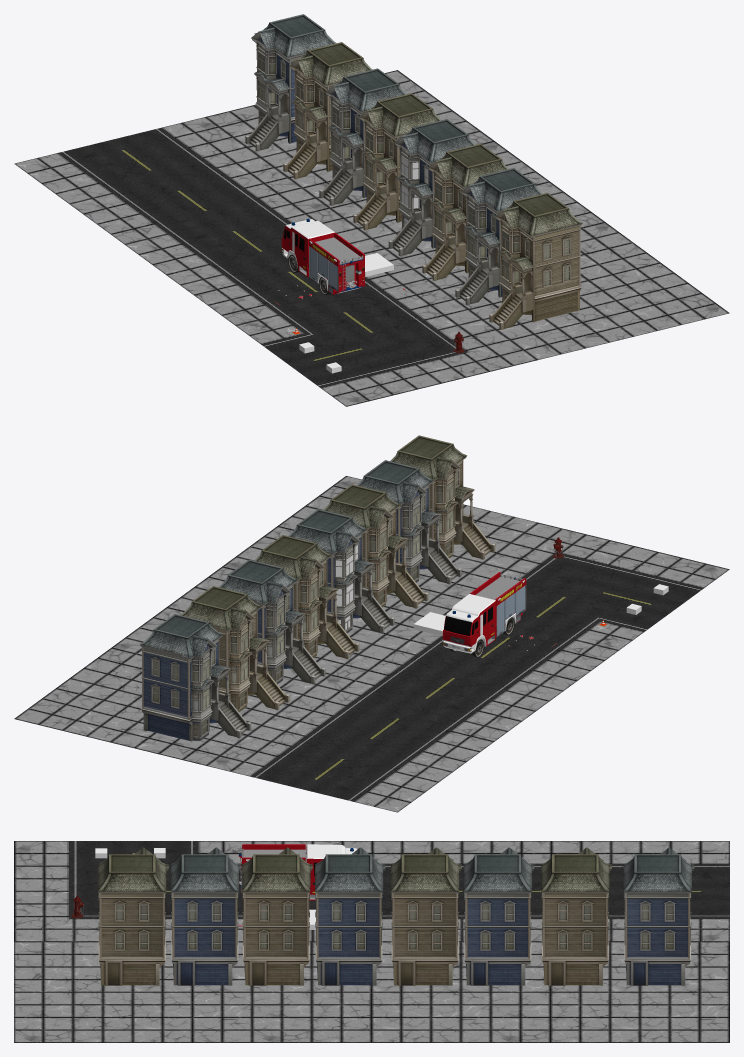
The model's file is city.glb.
The picture shows the model from 3 angles, top to bottom: view 1: azimuth 30°, elevation 25°; view 2: azimuth 150°, elevation 25°; view 3: azimuth 270°, elevation 25°; orthographic projection. The views are drawn at different scales.
Parts seen in each view (by area): view 1: Batch_U12_straight__1_, Batch_U5_curve, Batch_U21_straight, Batch_U16_plaza, Batch_U183_SanFranciscoHouse, Batch_U205_SanFranciscoHouse, Batch_U184_SanFranciscoHouse, Batch_U185_SanFranciscoHouse, Batch_U207_SanFranciscoHouse, Batch_U206_SanFranciscoHouse, Batch_U186_SanFranciscoHouse, Batch_U180_SanFranciscoHouse (+3 smaller); view 2: Batch_U12_straight__1_, Batch_U21_straight, Batch_U5_curve, Batch_U24_plaza__2_, Batch_U205_SanFranciscoHouse, Batch_U184_SanFranciscoHouse, Batch_U207_SanFranciscoHouse, Batch_U183_SanFranciscoHouse, Batch_U186_SanFranciscoHouse, Batch_U185_SanFranciscoHouse, Batch_U206_SanFranciscoHouse, Batch_U180_SanFranciscoHouse (+3 smaller); view 3: Batch_U16_plaza, Batch_U24_plaza__2_, Batch_U8_plaza__1_, Batch_U5_curve, Batch_U12_straight__1_, Batch_U207_SanFranciscoHouse, Batch_U206_SanFranciscoHouse, Batch_U205_SanFranciscoHouse, Batch_U180_SanFranciscoHouse, Batch_U185_SanFranciscoHouse, Batch_U183_SanFranciscoHouse, Batch_U186_SanFranciscoHouse (+3 smaller).
Boxes of the visible parts, x1,y1,x2,y2 form: Batch_U12_straight__1_: (14,117,315,244); Batch_U5_curve: (236,279,537,406); Batch_U21_straight: (125,198,426,325); Batch_U16_plaza: (428,232,729,359); Batch_U183_SanFranciscoHouse: (489,192,582,329); Batch_U205_SanFranciscoHouse: (245,14,336,151); Batch_U184_SanFranciscoHouse: (283,42,372,179); Batch_U185_SanFranciscoHouse: (353,93,441,230); Batch_U207_SanFranciscoHouse: (319,68,406,205); Batch_U206_SanFranciscoHouse: (455,168,542,305); Batch_U186_SanFranciscoHouse: (422,143,508,280); Batch_U180_SanFranciscoHouse: (388,119,475,256); Batch_U12_straight__1_: (206,684,507,812); Batch_U21_straight: (317,603,618,731); Batch_U5_curve: (428,522,729,650); Batch_U24_plaza__2_: (14,638,315,765); Batch_U205_SanFranciscoHouse: (140,614,251,740); Batch_U184_SanFranciscoHouse: (180,586,289,711); Batch_U207_SanFranciscoHouse: (218,559,325,683); Batch_U183_SanFranciscoHouse: (390,435,495,559); Batch_U186_SanFranciscoHouse: (323,484,428,608); Batch_U185_SanFranciscoHouse: (254,535,359,659); Batch_U206_SanFranciscoHouse: (357,460,461,584); Batch_U180_SanFranciscoHouse: (288,509,394,633); Batch_U16_plaza: (14,942,252,1042); Batch_U24_plaza__2_: (491,942,729,1042); Batch_U8_plaza__1_: (252,942,491,1042); Batch_U5_curve: (14,841,252,941); Batch_U12_straight__1_: (491,841,729,941); Batch_U207_SanFranciscoHouse: (463,847,534,985); Batch_U206_SanFranciscoHouse: (170,847,241,985); Batch_U205_SanFranciscoHouse: (623,847,694,985); Batch_U180_SanFranciscoHouse: (315,847,385,985); Batch_U185_SanFranciscoHouse: (391,847,461,985); Batch_U183_SanFranciscoHouse: (98,847,168,985); Batch_U186_SanFranciscoHouse: (242,847,312,985).
Bounding box in the file's own units: 40 × 10.14 × 60.
Materials: 26 (16 with a texture image).
